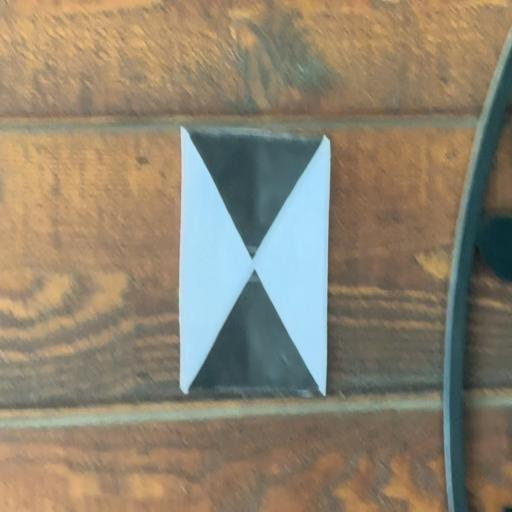target: (180, 128, 329, 394)
